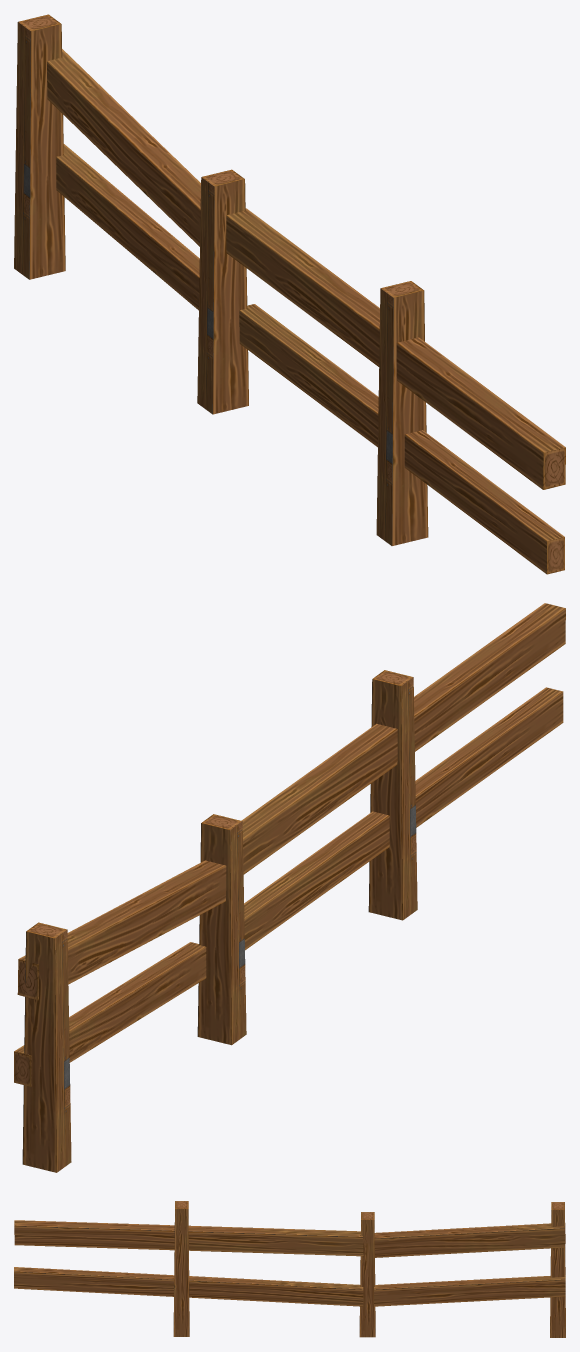
The picture shows the model from 3 angles, top to bottom: view 1: azimuth 30°, elevation 25°; view 2: azimuth 150°, elevation 25°; view 3: azimuth 270°, elevation 25°; orthographic projection. The views are drawn at different scales.
Parts seen in each view (by area): view 1: Cube.2124; view 2: Cube.2124; view 3: Cube.2124.
Boxes of the visible parts, box(x1,y1,x2,y2) form: Cube.2124: box(14, 14, 565, 574); Cube.2124: box(14, 603, 565, 1172); Cube.2124: box(14, 1201, 565, 1337).
Bounding box in the file's own units: 28.13 × 132 × 517.
Materials: 1 (1 with a texture image).
